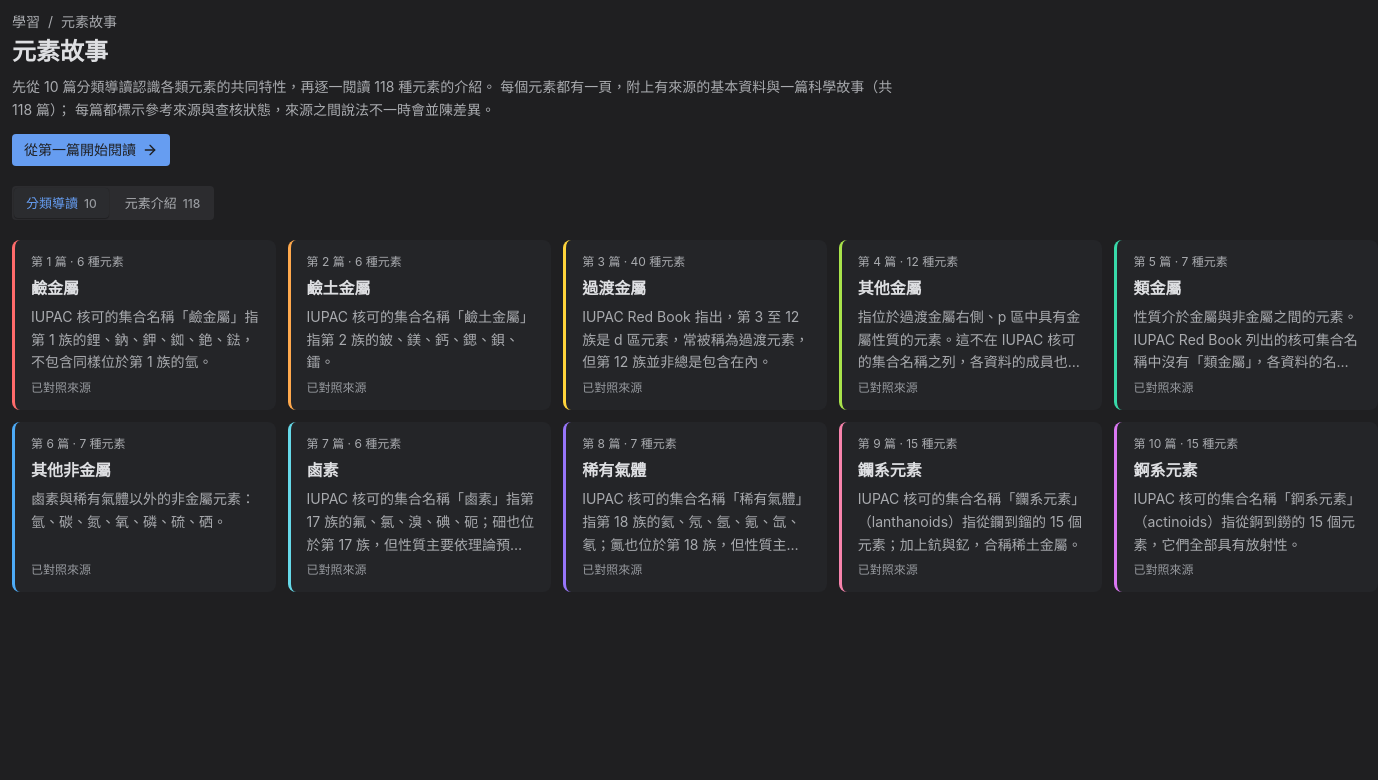
it: StoriesOverview › pages through the element index one period at a time
What coordinates should you click on to do the following:
click the tab "元素介紹118"
I would click on:
 (163, 203)
Its box is [113,188,212,218].
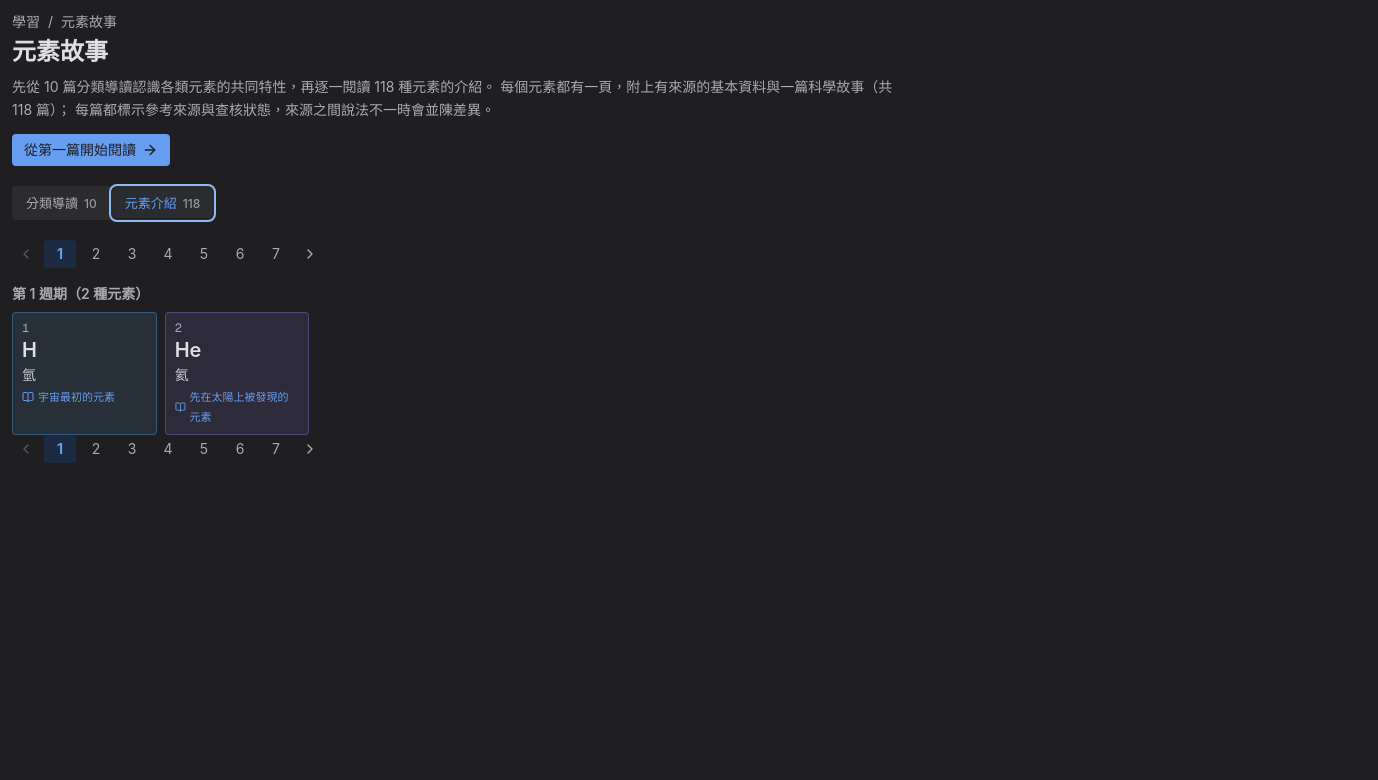
Expected: the number of list items is 2, [12,312,157,435]; [165,312,309,435]
Expected: the 1st button named "上一頁" is disabled, [12,240,40,268]
What coordinates should you click on to do the following:
click the 1st button named "下一頁"
I would click on:
 (310, 254)
Its box is [296,240,324,268].
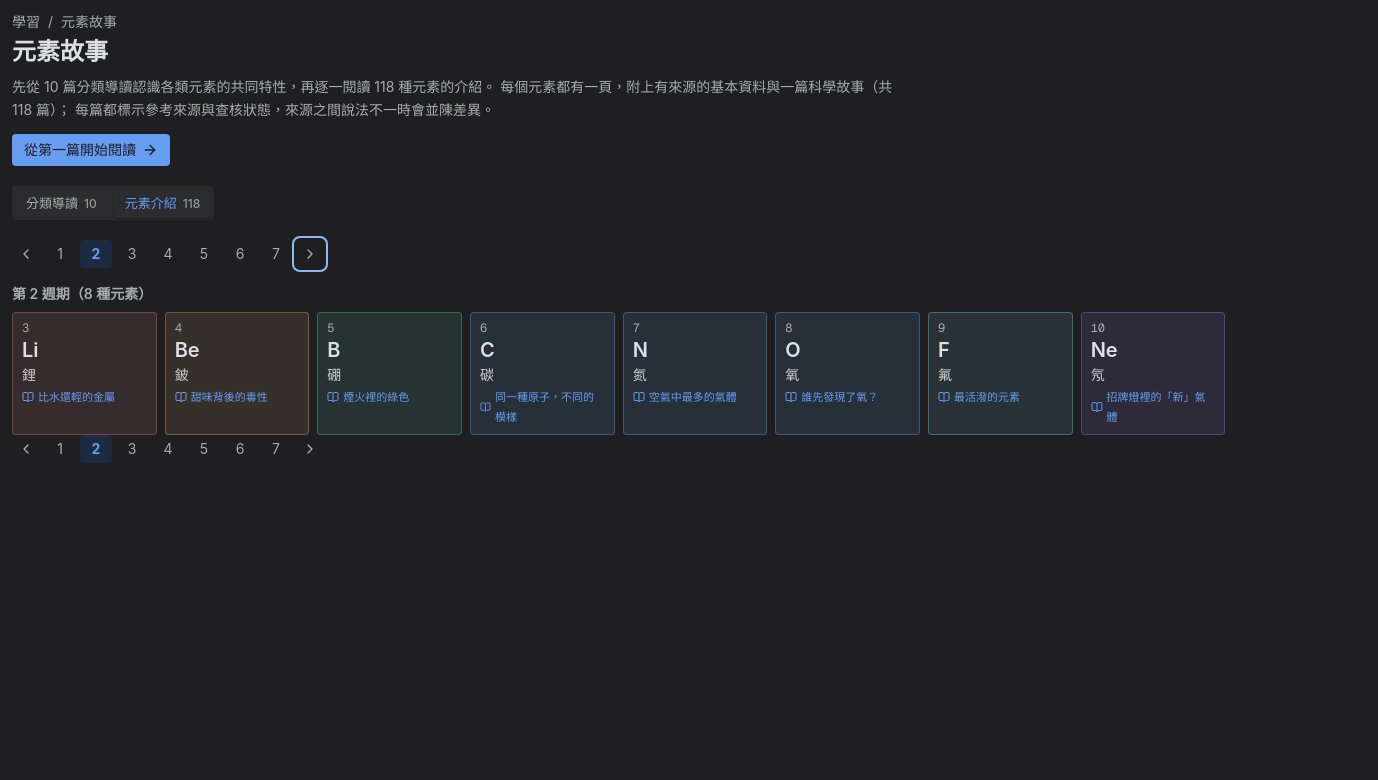
Expected: the number of list items is 8
What coordinates should you click on to do the following:
click the button named "第 6 週期"
I would click on:
 (240, 254)
Its box is [224,240,256,268].
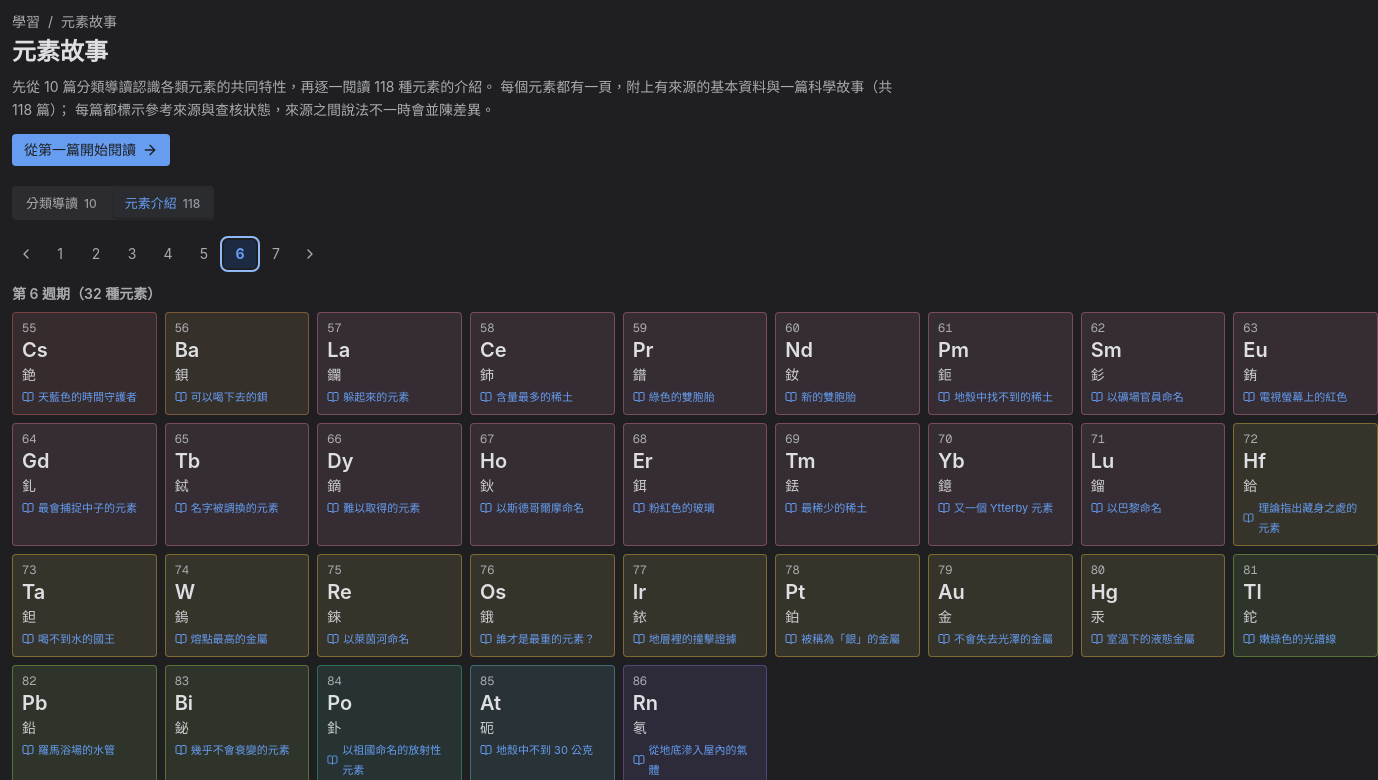
Expected: the number of list items is 32
